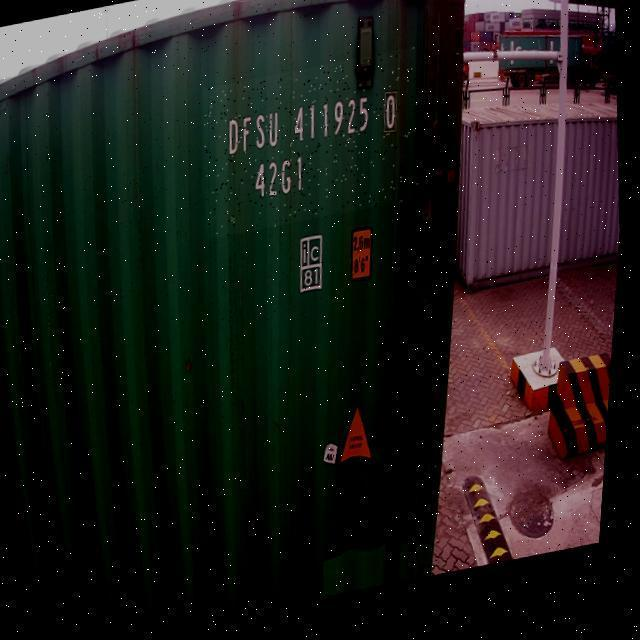container_number_h: (197, 55, 430, 246)
